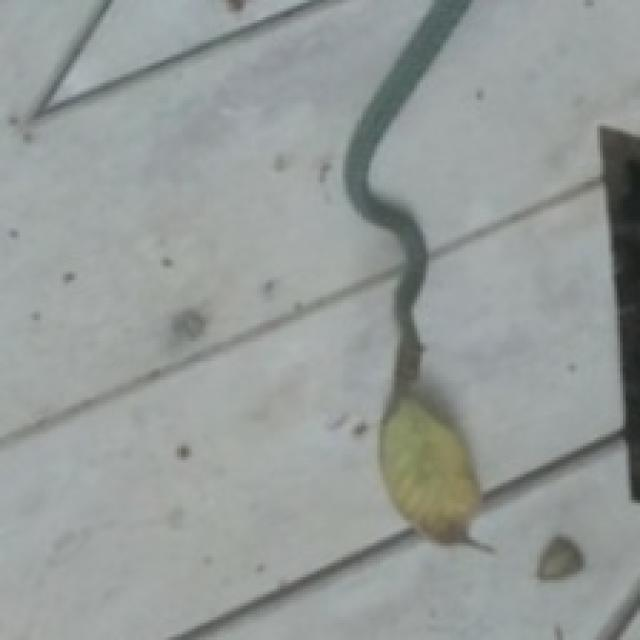paradise tree snake: (345, 0, 471, 406)
